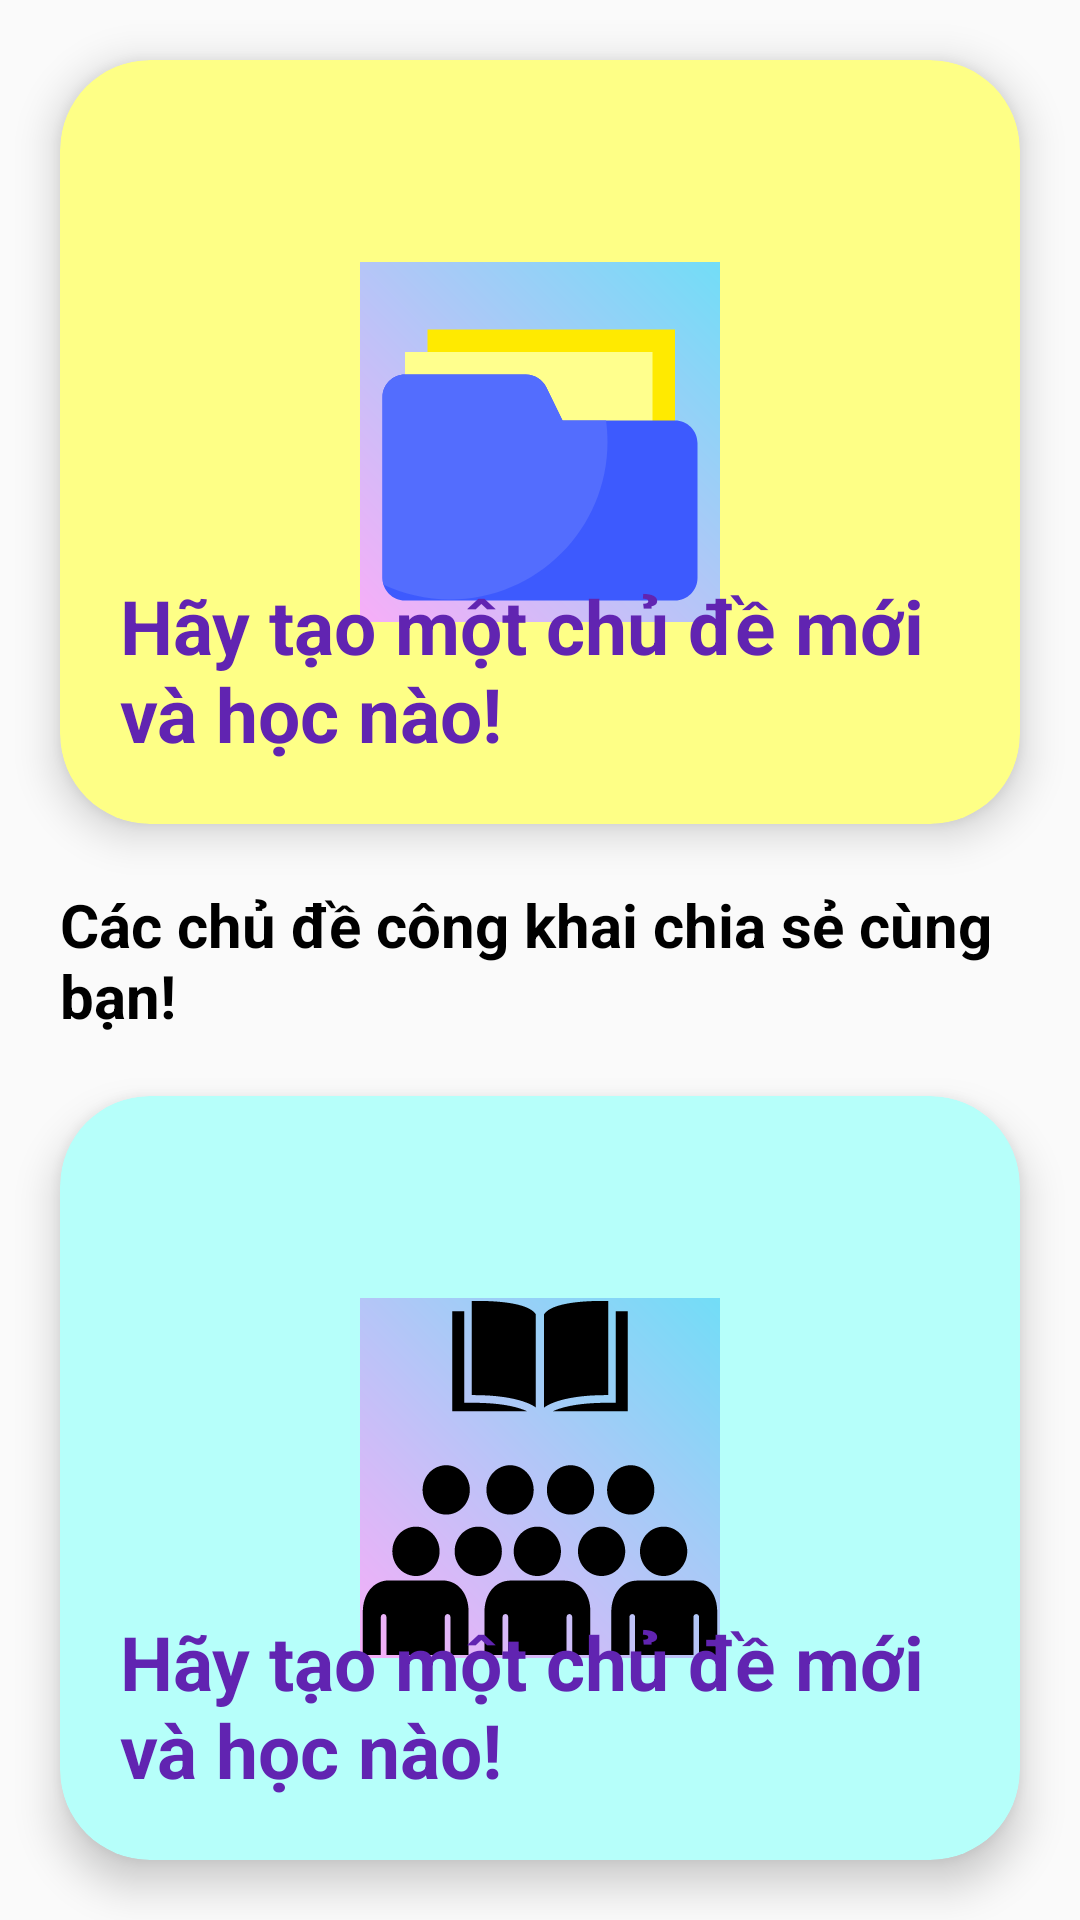

Screen size 1080w x 1920h. Icon name, then its box in pixels as BBox(x1, y1, x2, y2):
folder: BBox(360, 262, 720, 622)
